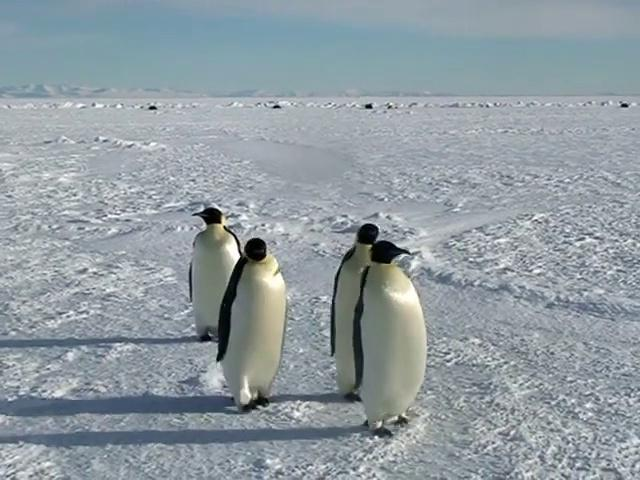animal: (355, 242, 427, 437)
